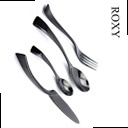fork: (36, 1, 103, 68)
